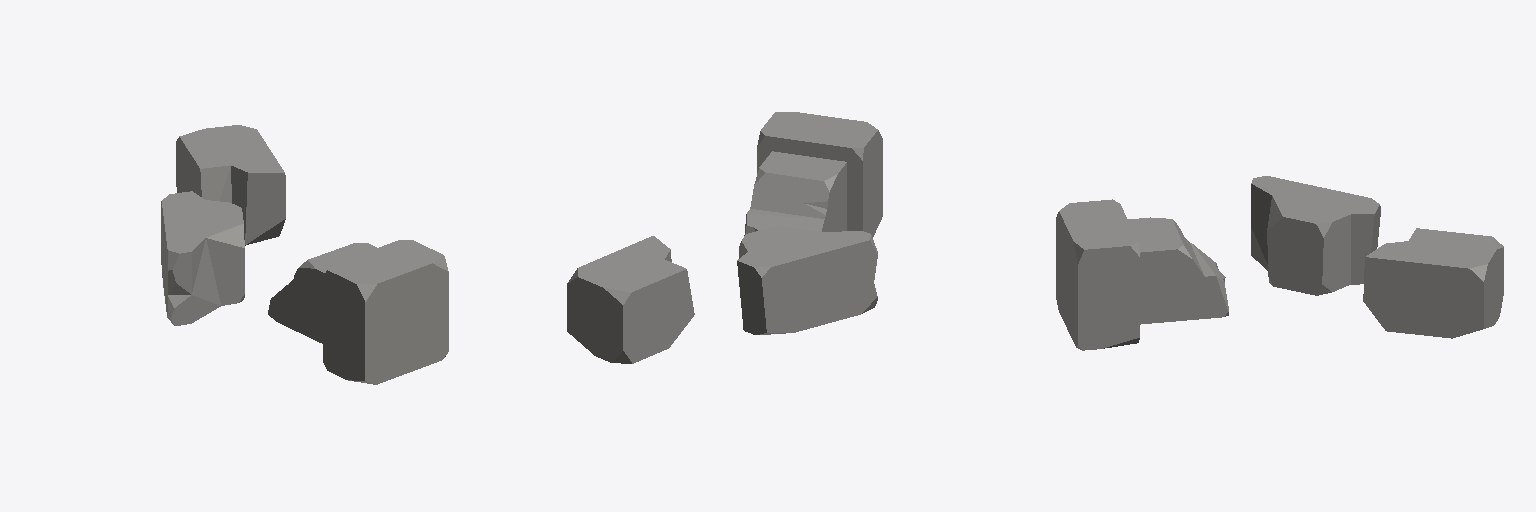
The model's file is Hilly_Prop_Ruins_Pillar_5.obj.
The picture shows the model from 3 angles: view 1: azimuth 30°, elevation 25°; view 2: azimuth 150°, elevation 25°; view 3: azimuth 270°, elevation 25°; orthographic projection.
Visible parts, largest first — view 1: object3, object2, object1; view 2: object3, object2, object1; view 3: object3, object1, object2.
Boxes of the visible parts, box(x1,y1,x2,y2) form: object3: box(268, 240, 448, 384); object2: box(161, 191, 244, 325); object1: box(176, 125, 285, 245); object3: box(744, 112, 882, 237); object2: box(737, 226, 877, 334); object1: box(567, 236, 694, 363); object3: box(1056, 199, 1228, 350); object1: box(1363, 228, 1503, 338); object2: box(1251, 176, 1380, 295).
Bounding box in the file's own units: 1.44 × 0.7 × 2.82.